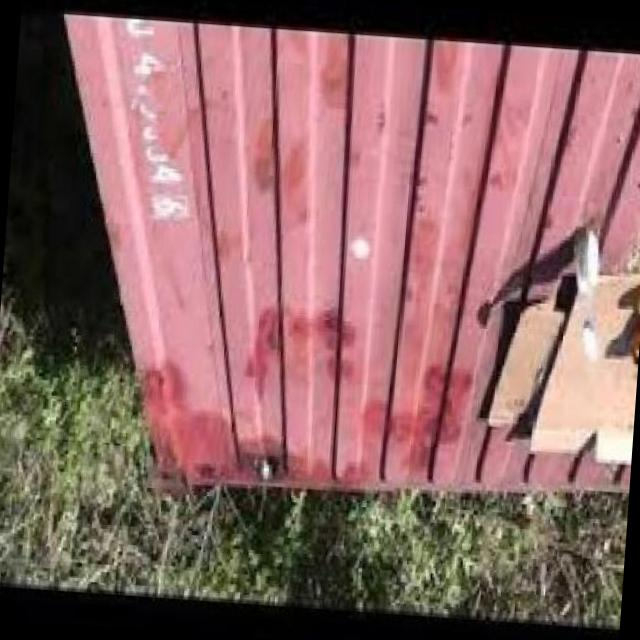Hole: (256, 452, 289, 482)
